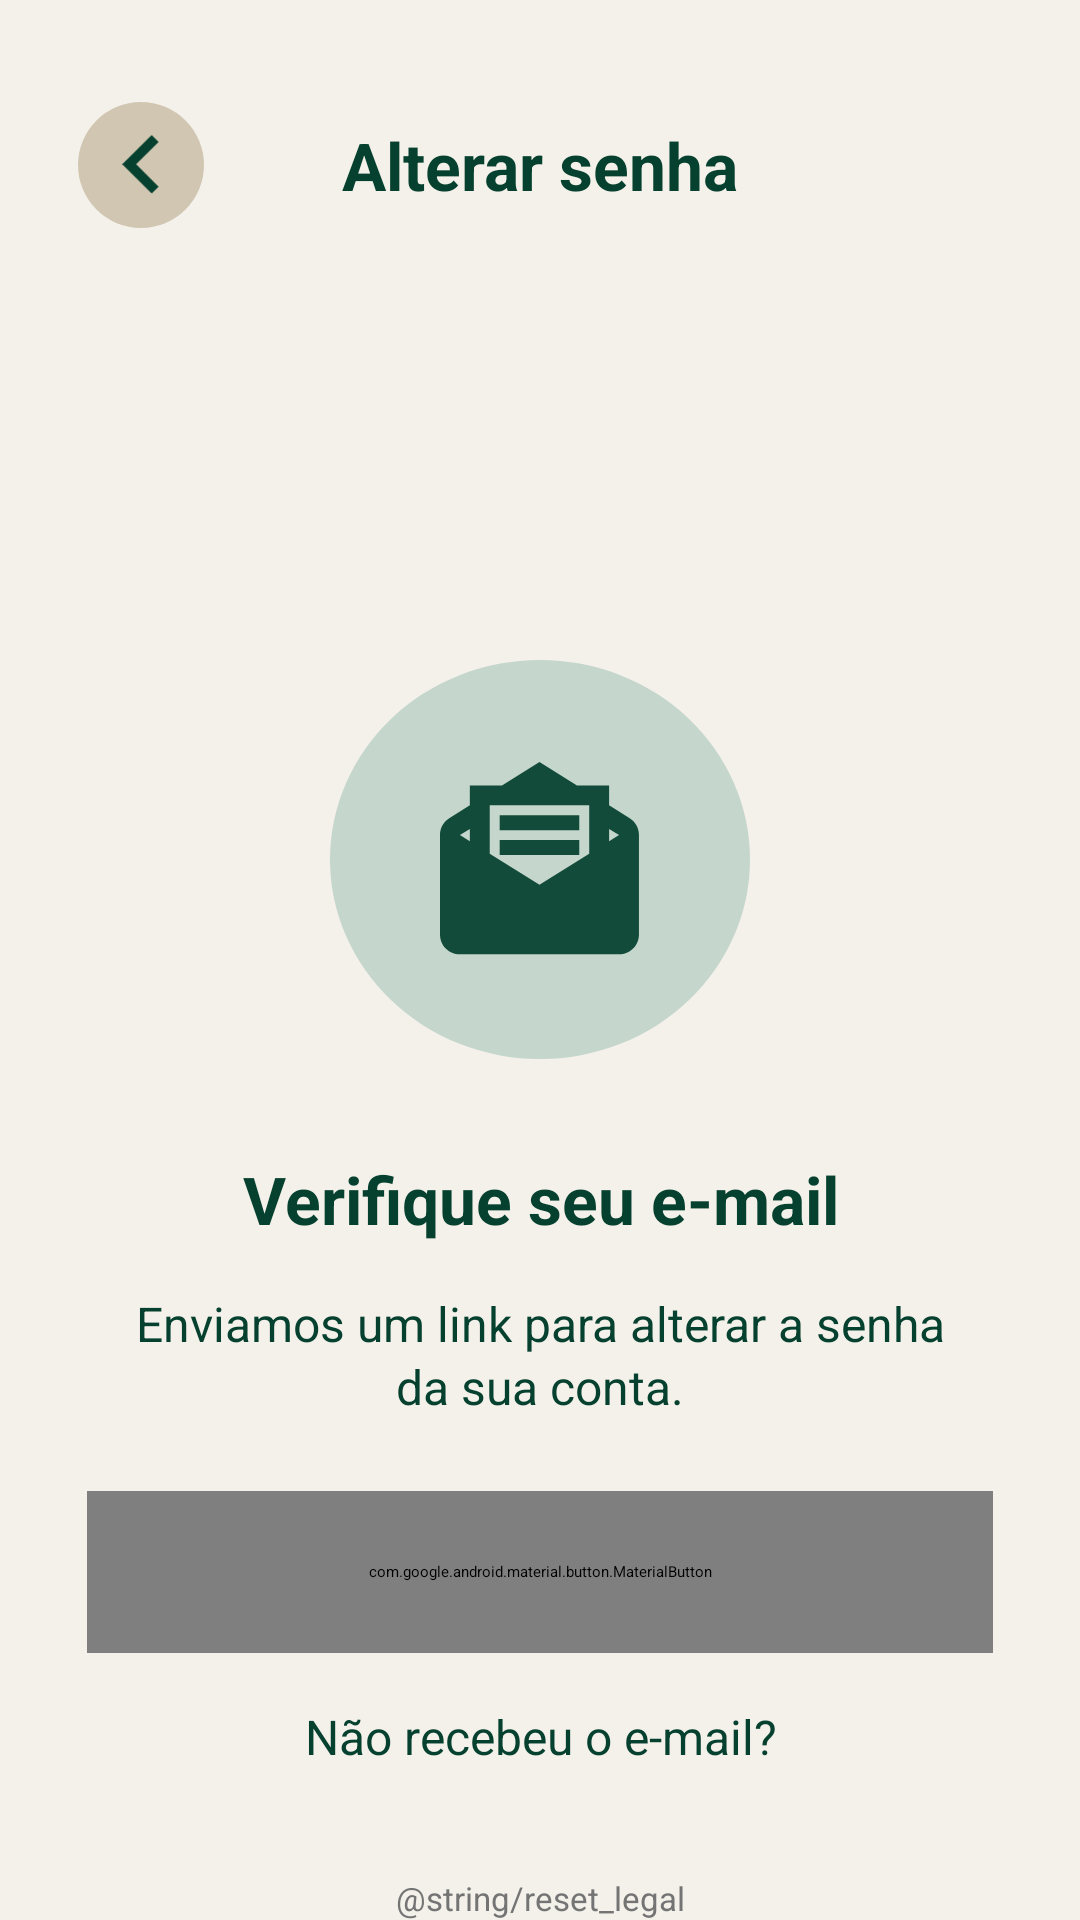

Where icons sit on this 1080 × 1920 app screen, as (x1, y1, x2, y2):
Voltar: (78, 102, 204, 228)
